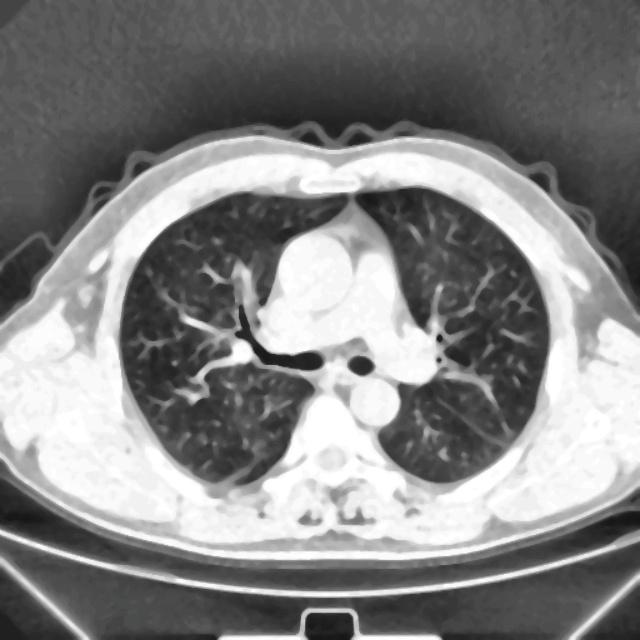covid: (0, 120, 639, 570)
